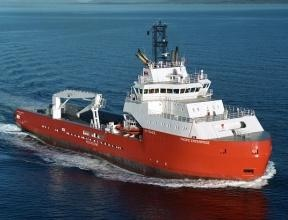otherboat: (13, 13, 272, 182)
